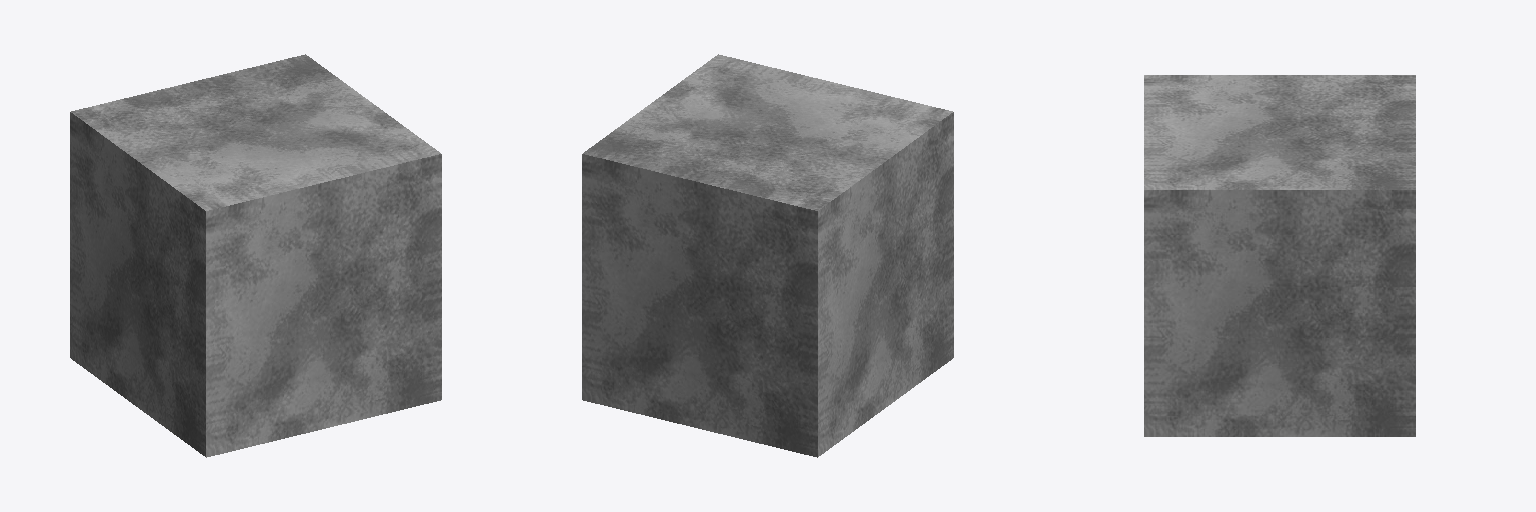
3 views of the same model, side by side, from view 1: azimuth 30°, elevation 25°; view 2: azimuth 150°, elevation 25°; view 3: azimuth 270°, elevation 25° (orthographic).
Visible parts, largest first — view 1: Cube_Cube_Material; view 2: Cube_Cube_Material; view 3: Cube_Cube_Material.
Part boxes in pixels (left/top/right/bottom): Cube_Cube_Material: left=70, top=54, right=441, bottom=457; Cube_Cube_Material: left=582, top=54, right=953, bottom=457; Cube_Cube_Material: left=1144, top=75, right=1415, bottom=436.
Bounding box in the file's own units: 1 × 1 × 1.
Materials: 1 (1 with a texture image).